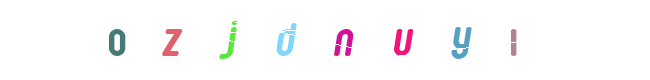0: (77, 0, 157, 80)
1: (404, 0, 484, 80)
D: (254, 0, 334, 80)
J: (190, 0, 270, 80)
N: (285, 0, 365, 80)
U: (333, 0, 413, 80)
Y: (388, 0, 468, 80)
Z: (145, 0, 225, 80)
